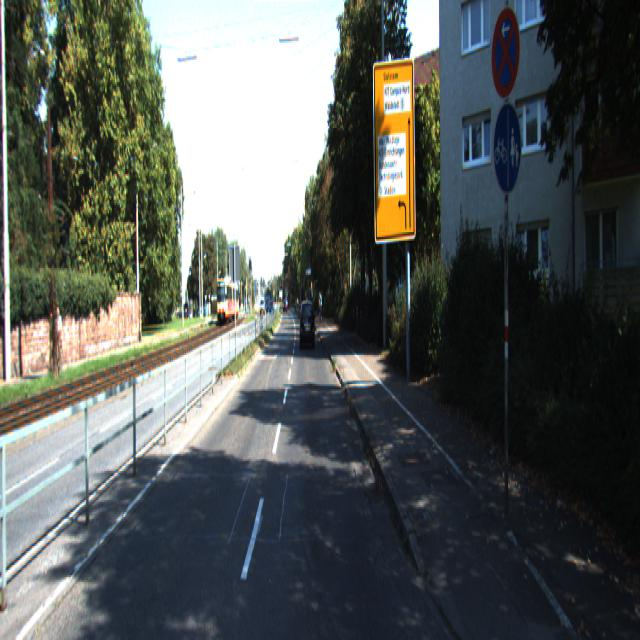Car: (217, 278, 240, 324), (300, 300, 316, 350)
